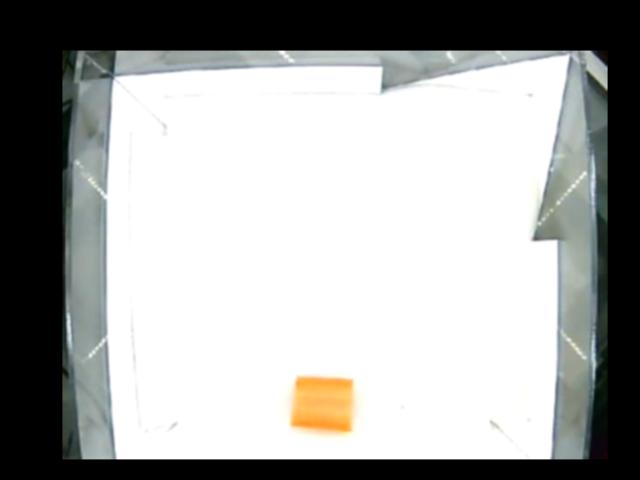Carrot: (287, 375, 357, 433)
